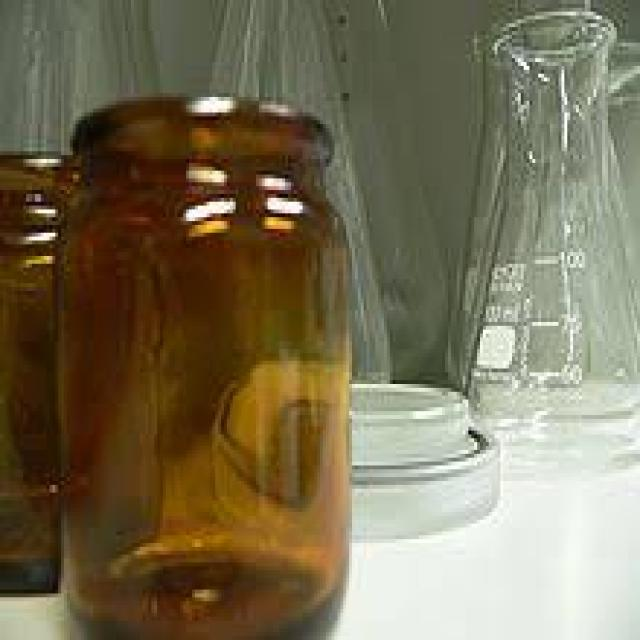glass: (55, 93, 349, 636), (451, 8, 637, 462), (201, 0, 390, 380), (328, 0, 445, 372), (0, 148, 58, 598), (0, 0, 163, 151)
plastic: (346, 427, 498, 539), (332, 372, 463, 454)
